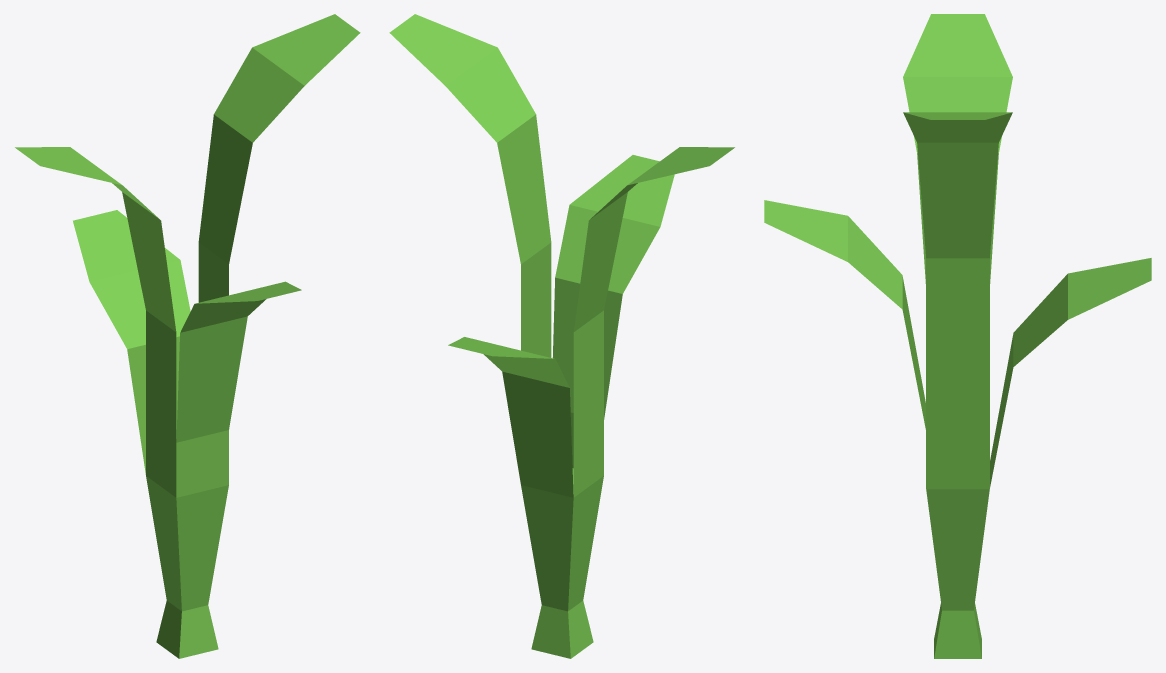
Rendered from sprout.glb.
3 views of the same model, side by side, from view 1: azimuth 30°, elevation 25°; view 2: azimuth 150°, elevation 25°; view 3: azimuth 270°, elevation 25° (orthographic). The views are drawn at different scales.
Parts seen in each view (by area): view 1: crops_leafsStageB; view 2: crops_leafsStageB; view 3: crops_leafsStageB.
Part boxes in pixels (x1=…): crops_leafsStageB: x1=15, y1=14, x2=360, y2=658; crops_leafsStageB: x1=389, y1=14, x2=734, y2=658; crops_leafsStageB: x1=764, y1=14, x2=1151, y2=658.
Size of the model in its own units: 1.56 by 2.71 by 1.56.
